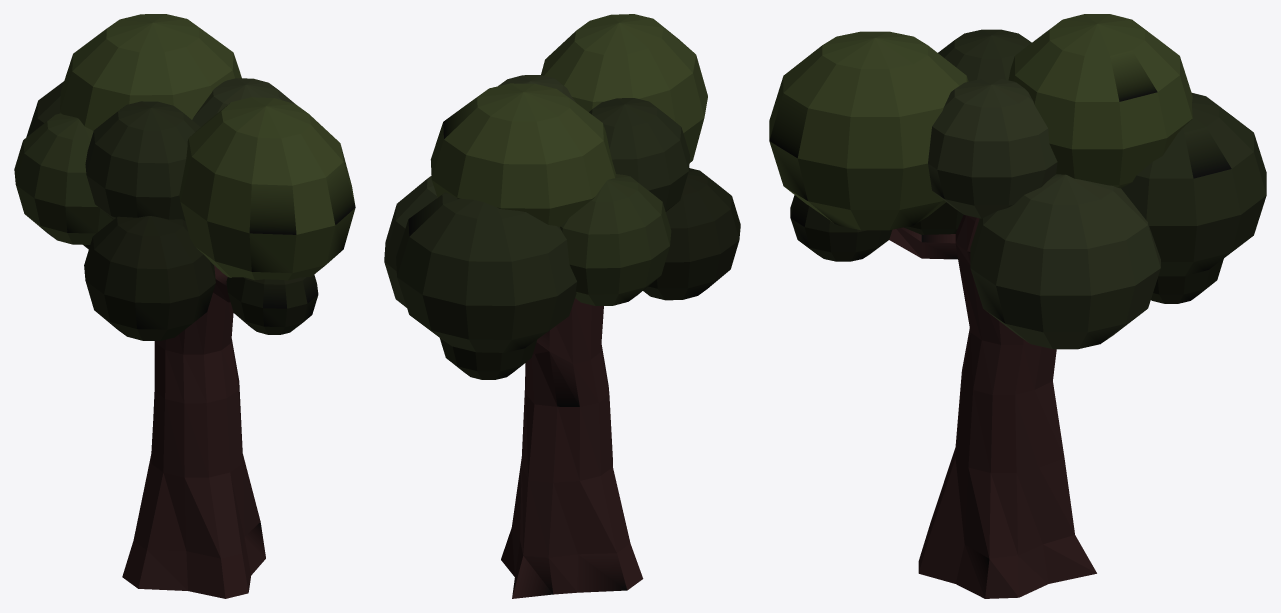
The model's file is tree.gltf.
3 renders of one model, left to right at view 1: azimuth 30°, elevation 25°; view 2: azimuth 150°, elevation 25°; view 3: azimuth 270°, elevation 25°, orthographic. The views are drawn at different scales.
Parts seen in each view (by area): view 1: Tree; view 2: Tree; view 3: Tree.
Boxes of the visible parts, box(x1,y1,x2,y2) form: Tree: box(14, 14, 355, 598); Tree: box(384, 14, 740, 598); Tree: box(769, 14, 1266, 598).
Size of the model in its own units: 1.68 by 3 by 2.49.
1 material, 1 textured.
